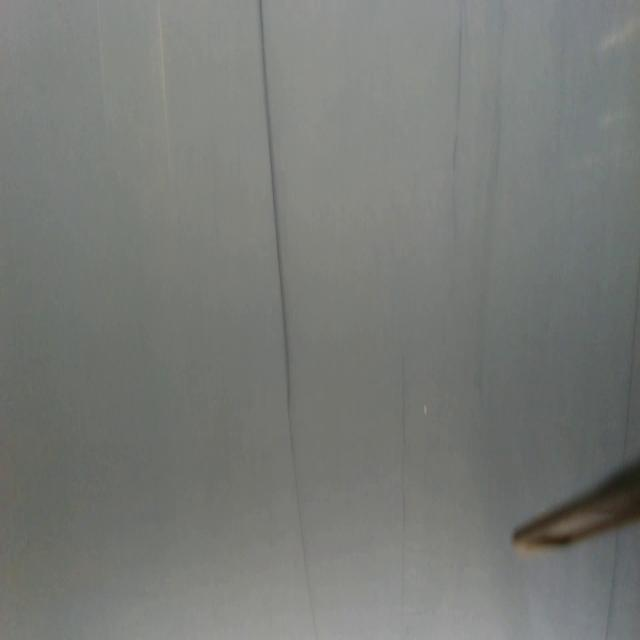hole: (423, 403, 428, 417)
